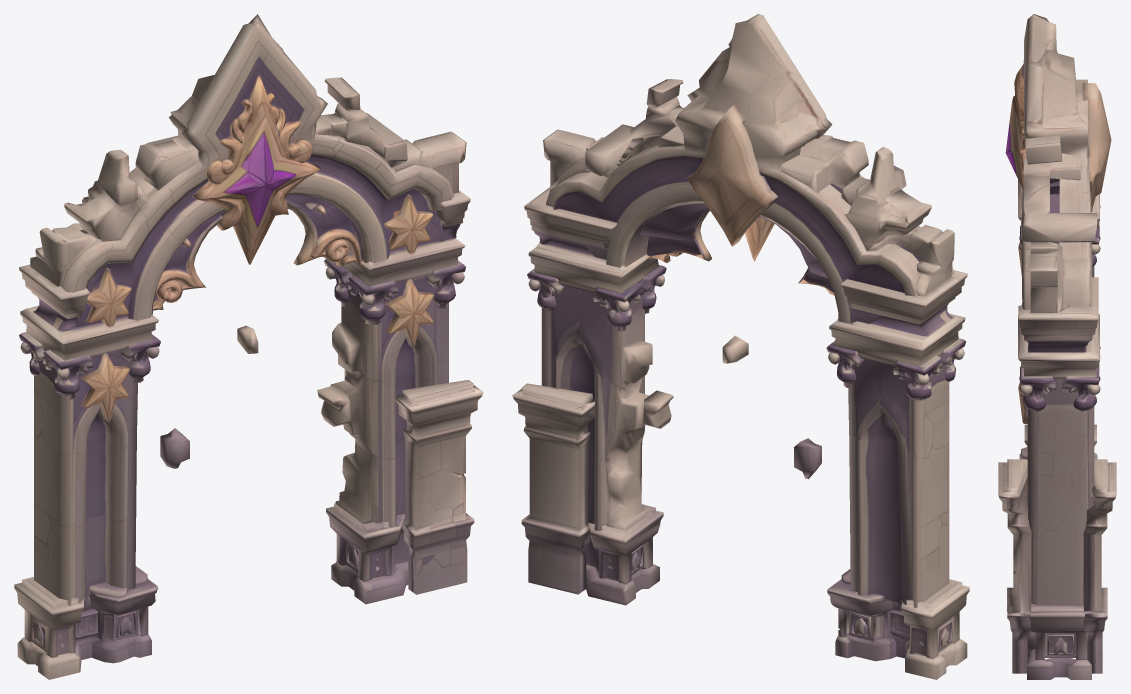
File: gate.glb
The picture shows the model from 3 angles, left to right: view 1: azimuth 30°, elevation 25°; view 2: azimuth 150°, elevation 25°; view 3: azimuth 270°, elevation 25°; orthographic projection. The views are drawn at different scales.
Visible parts, largest first — view 1: tripo_node_1a7e7064; view 2: tripo_node_1a7e7064; view 3: tripo_node_1a7e7064.
Boxes of the visible parts, bbox=[...] form: tripo_node_1a7e7064: bbox=[14, 14, 483, 679]; tripo_node_1a7e7064: bbox=[512, 14, 969, 679]; tripo_node_1a7e7064: bbox=[998, 14, 1116, 679].
Size of the model in its own units: 0.7222 by 0.9995 by 0.188.
Materials: 1 (1 with a texture image).
